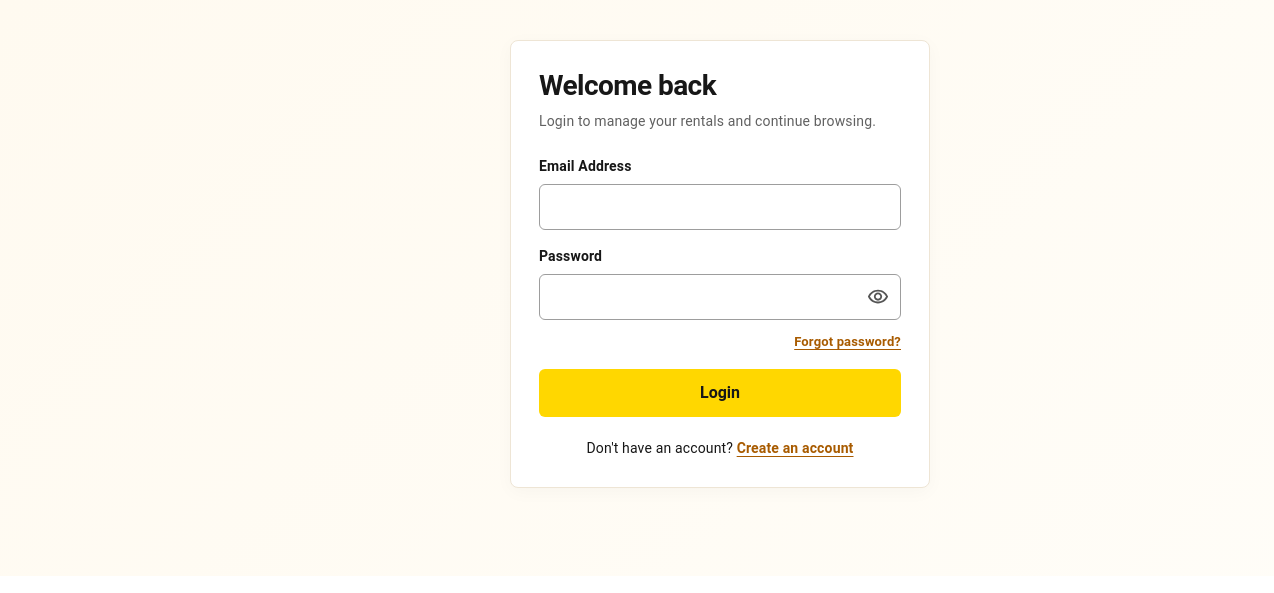
Test: login contains only login fields, accessible visibility control and routing links
Expected: the heading "Welcome back" is shown, [539,69,716,102]
Expected: the number of fields labelled "Email Address" is 1, [539,184,901,230]
Type "secret" into the password field labelled "Password" at (720, 297), box [539,274,901,320]
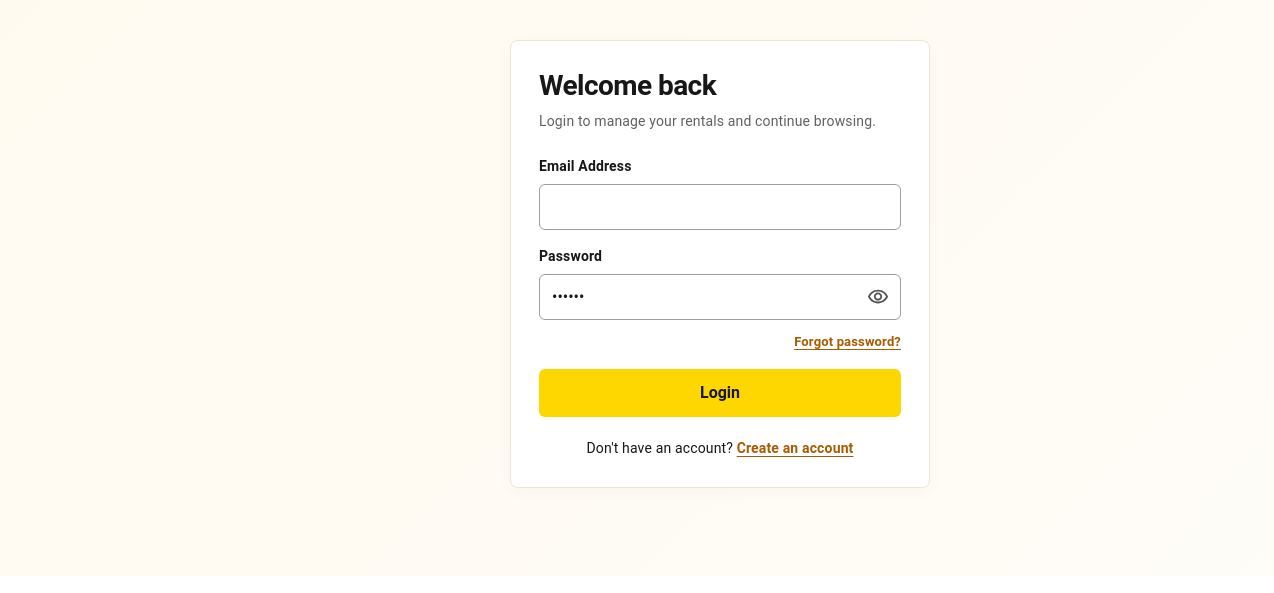
Click the button named "Show password" at (878, 297), box [856,275,900,319]
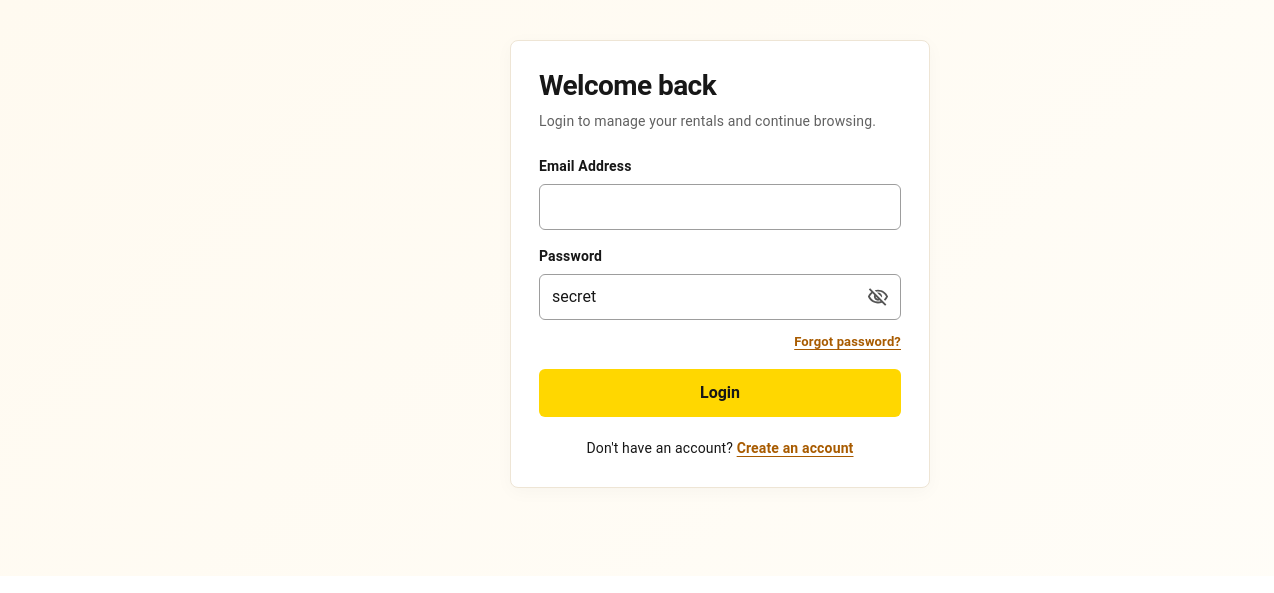
Result: the field labelled "Password" shows its text at [539,274,901,320]
Click the button named "Hide password" at (878, 297), box [856,275,900,319]
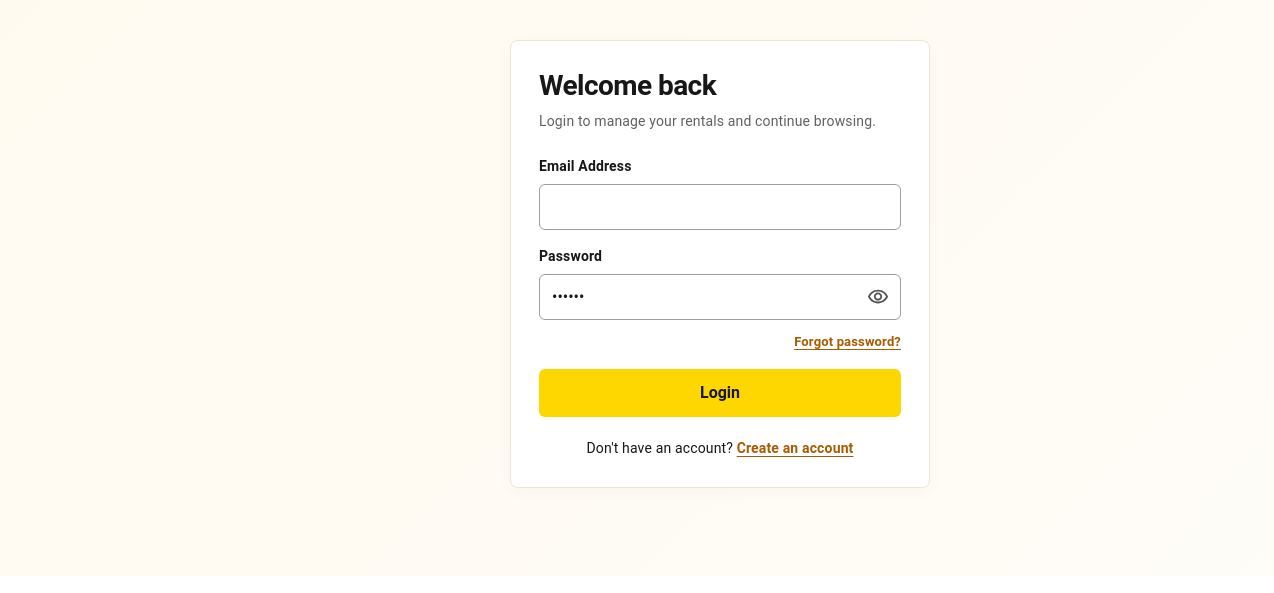
Result: the password field labelled "Password" hides its text at [539,274,901,320]
